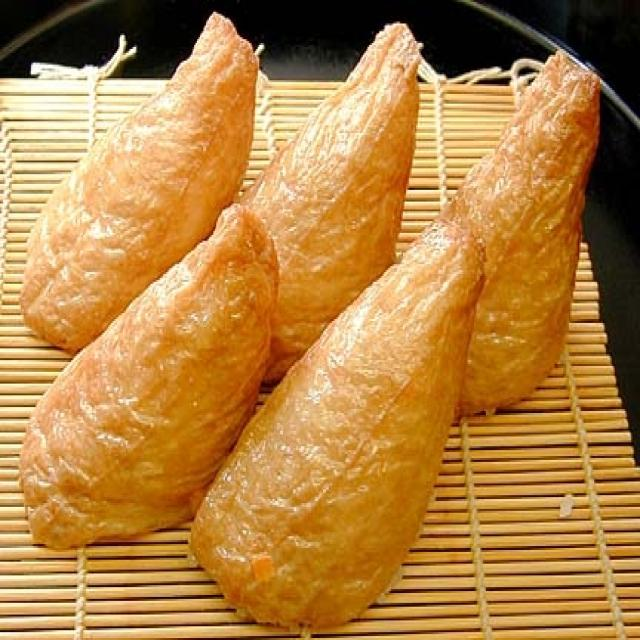寿司卷物: (12, 12, 613, 628)
